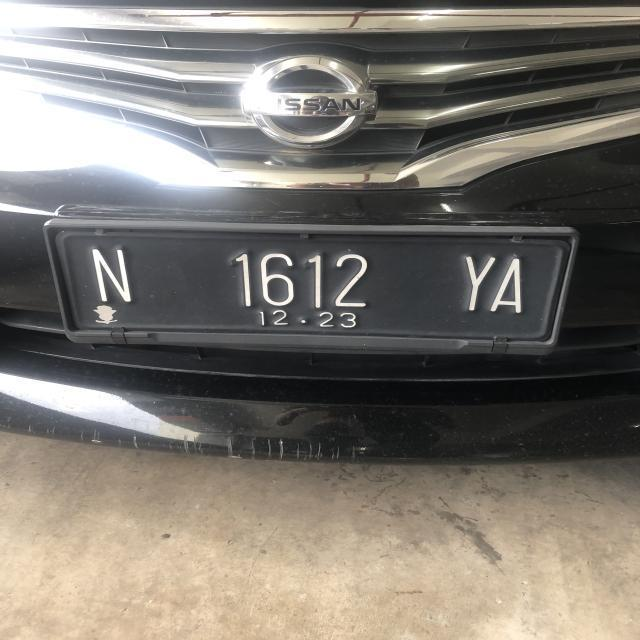1: (299, 252, 329, 314), (232, 251, 258, 309)
2: (333, 253, 372, 311)
6: (256, 252, 300, 310)
A: (492, 254, 528, 318)
N: (89, 248, 142, 306)
Y: (454, 254, 495, 312)
